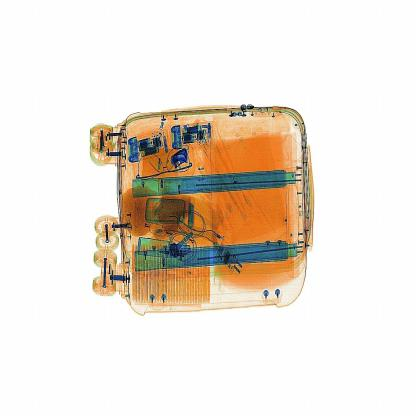knife: (169, 143, 191, 175)
